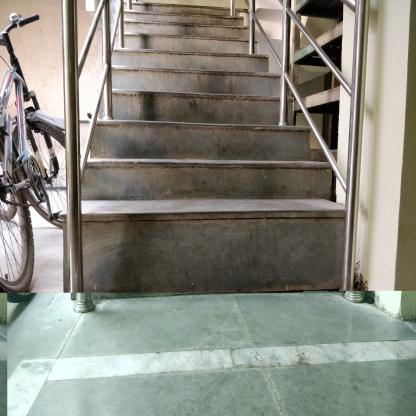stairs: (136, 2, 231, 312)
